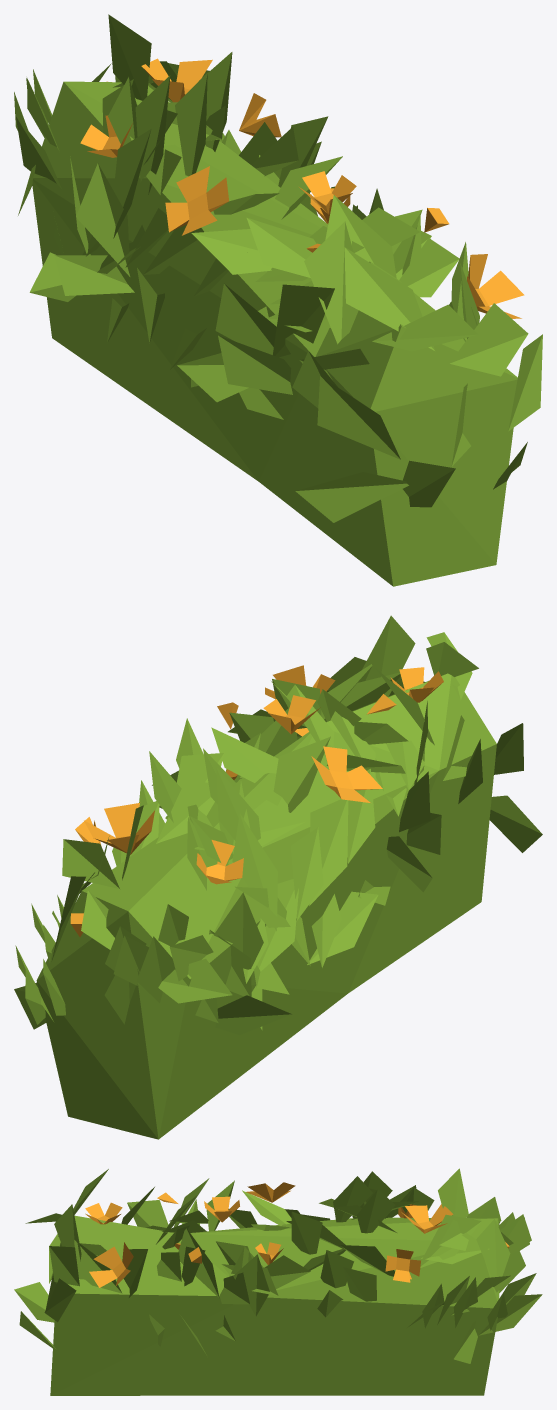
File: SM_Fence_Hedge_City_Short_Flower_1m.fbx
3 views of the same model, one above another, from view 1: azimuth 30°, elevation 25°; view 2: azimuth 150°, elevation 25°; view 3: azimuth 270°, elevation 25° (orthographic). The views are drawn at different scales.
Parts seen in each view (by area): view 1: SM_Fence_Hedge_City_Short_Flower_1m; view 2: SM_Fence_Hedge_City_Short_Flower_1m; view 3: SM_Fence_Hedge_City_Short_Flower_1m.
Boxes of the visible parts, <box> form: SM_Fence_Hedge_City_Short_Flower_1m: <box>14,14,542,586</box>; SM_Fence_Hedge_City_Short_Flower_1m: <box>14,615,542,1139</box>; SM_Fence_Hedge_City_Short_Flower_1m: <box>14,1168,542,1395</box>.
Bounding box in the file's own units: 0.4977 × 0.5684 × 1.31.
